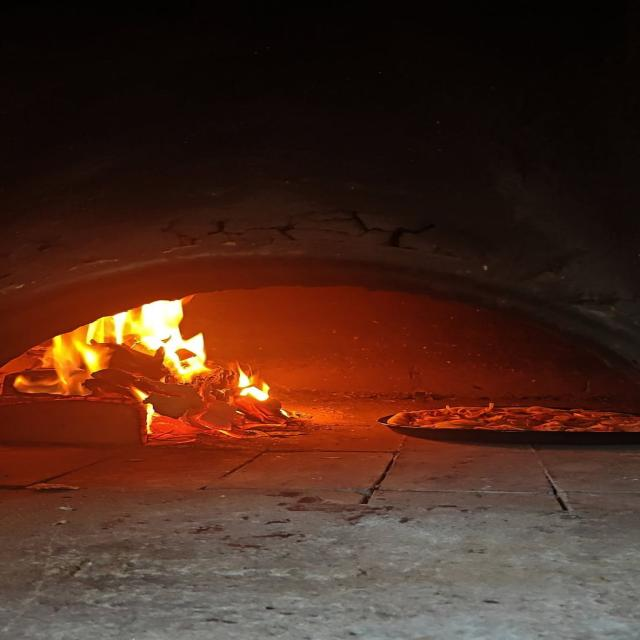fire: (84, 299, 183, 345), (150, 332, 212, 382), (40, 335, 108, 375), (12, 374, 92, 395), (236, 361, 270, 401)
